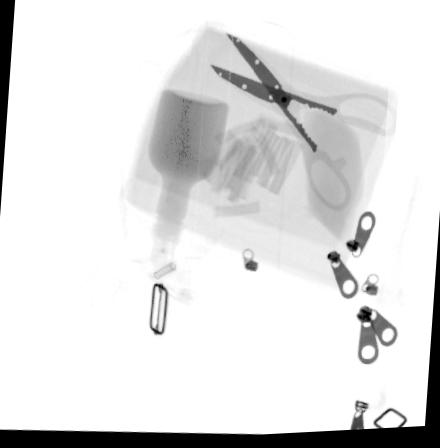Scissors: (208, 37, 397, 212)
